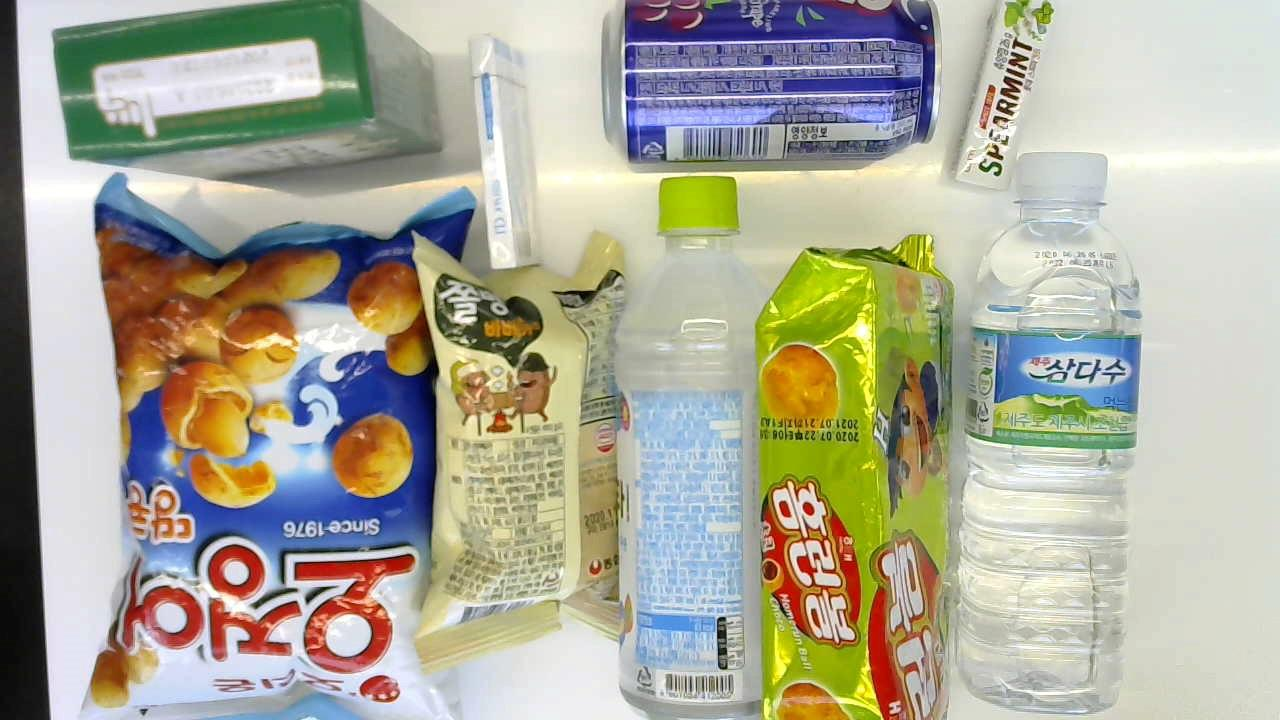ID_gum: (467, 30, 542, 269)
couque_coffee: (49, 0, 446, 178)
homerunball: (758, 230, 955, 720)
jjolbyung_ori: (408, 228, 630, 665)
samdasu: (954, 135, 1144, 715), (614, 175, 784, 720)
spearmint: (956, 0, 1060, 194)
squid_peanut: (77, 170, 465, 720)
welchs: (601, 0, 940, 170)
